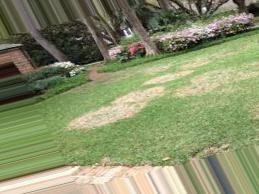patch: (87, 109, 118, 121), (206, 74, 227, 83), (120, 96, 138, 104), (156, 77, 166, 80)
